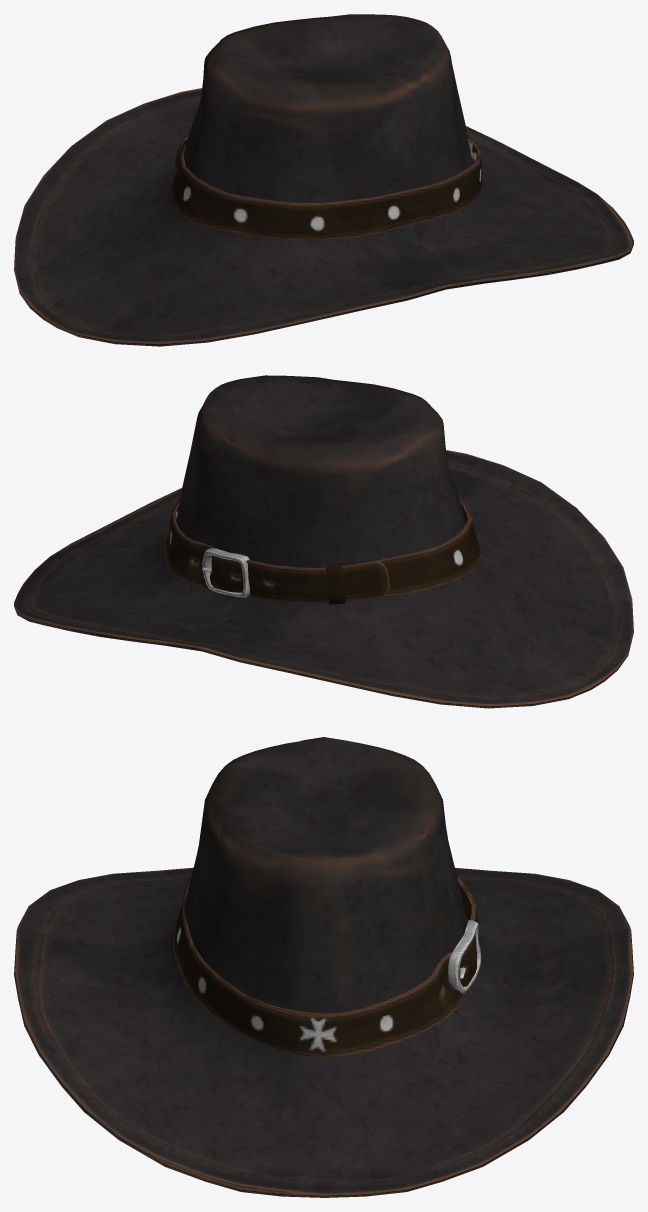
The model's file is Hat 01.glb.
3 renders of one model, top to bottom at view 1: azimuth 30°, elevation 25°; view 2: azimuth 150°, elevation 25°; view 3: azimuth 270°, elevation 25°, orthographic. The views are drawn at different scales.
Parts seen in each view (by area): view 1: Hat4; view 2: Hat4; view 3: Hat4.
Part boxes in pixels (bbox=[...]): Hat4: bbox=[14, 14, 633, 346]; Hat4: bbox=[14, 375, 633, 708]; Hat4: bbox=[14, 737, 633, 1197].
Size of the model in its own units: 0.4073 by 0.153 by 0.3393.
1 material, 1 textured.
